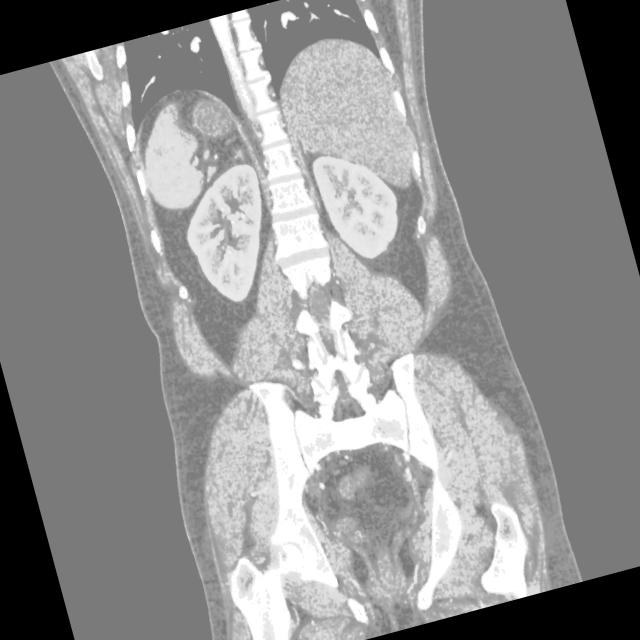NORMAL: (38, 18, 576, 608)
